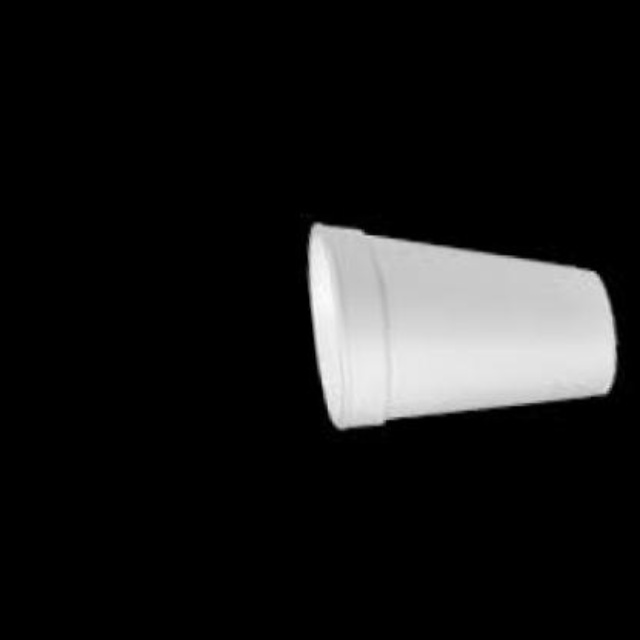trash: (308, 223, 614, 428)
